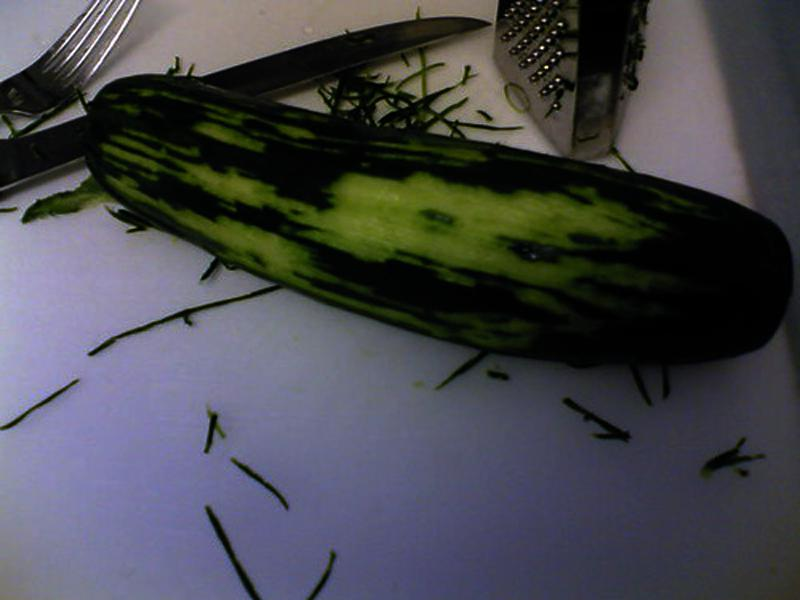Cucumber: (81, 72, 793, 366)
